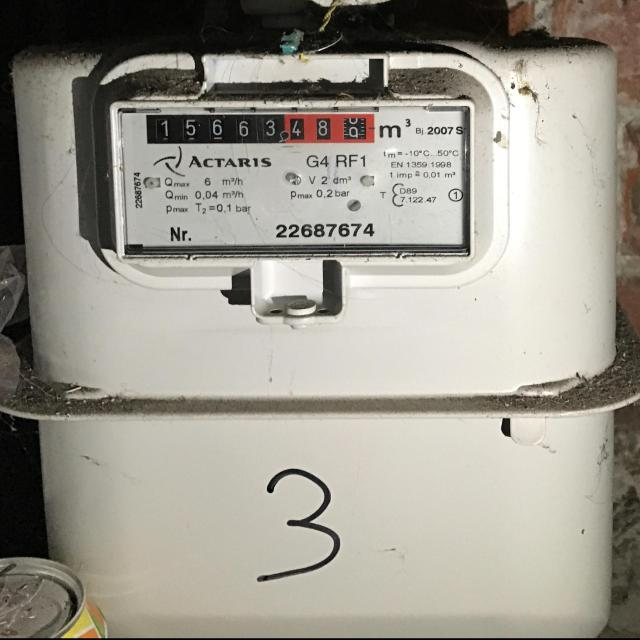gaz_meter: (109, 104, 471, 254)
indication: (145, 113, 375, 146)
